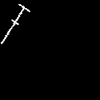double_crochet: (1, 4, 29, 43)
